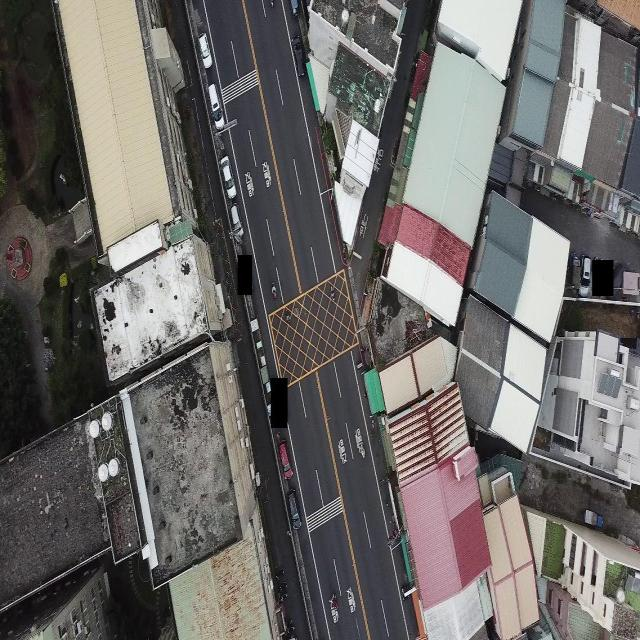bike: (270, 280, 278, 300), (331, 594, 338, 612), (330, 282, 336, 302), (284, 307, 290, 322)
car: (207, 82, 224, 130), (292, 33, 308, 82), (220, 155, 237, 200), (287, 488, 301, 530), (278, 439, 292, 480), (580, 254, 592, 300), (198, 32, 212, 69), (583, 507, 605, 530), (230, 203, 243, 240)
